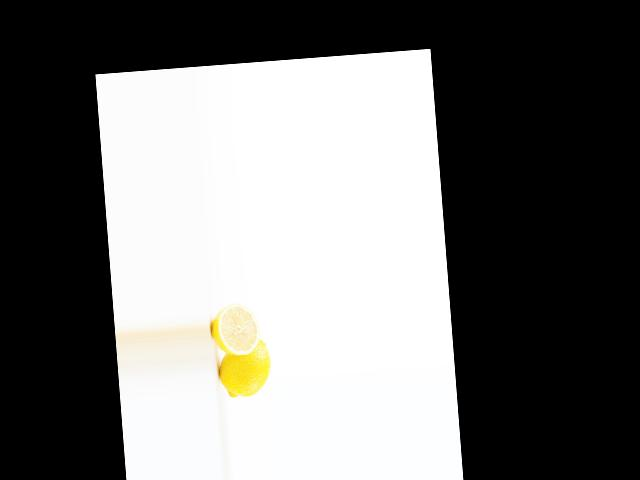lemon: (211, 332, 271, 401)
